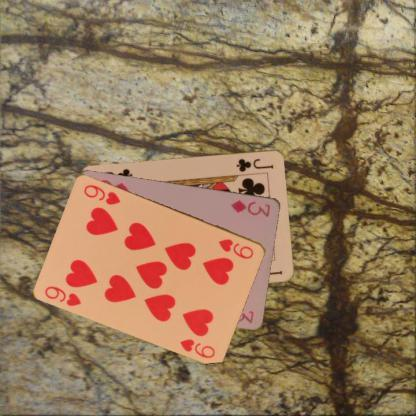3d: (228, 197, 272, 218)
9h: (42, 283, 83, 308), (216, 236, 256, 260)
Jc: (234, 156, 275, 173)
